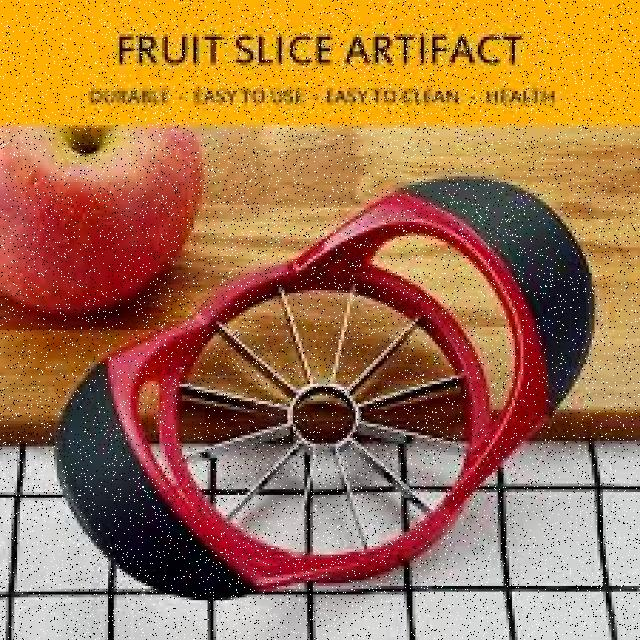Apple: (0, 128, 205, 308)
